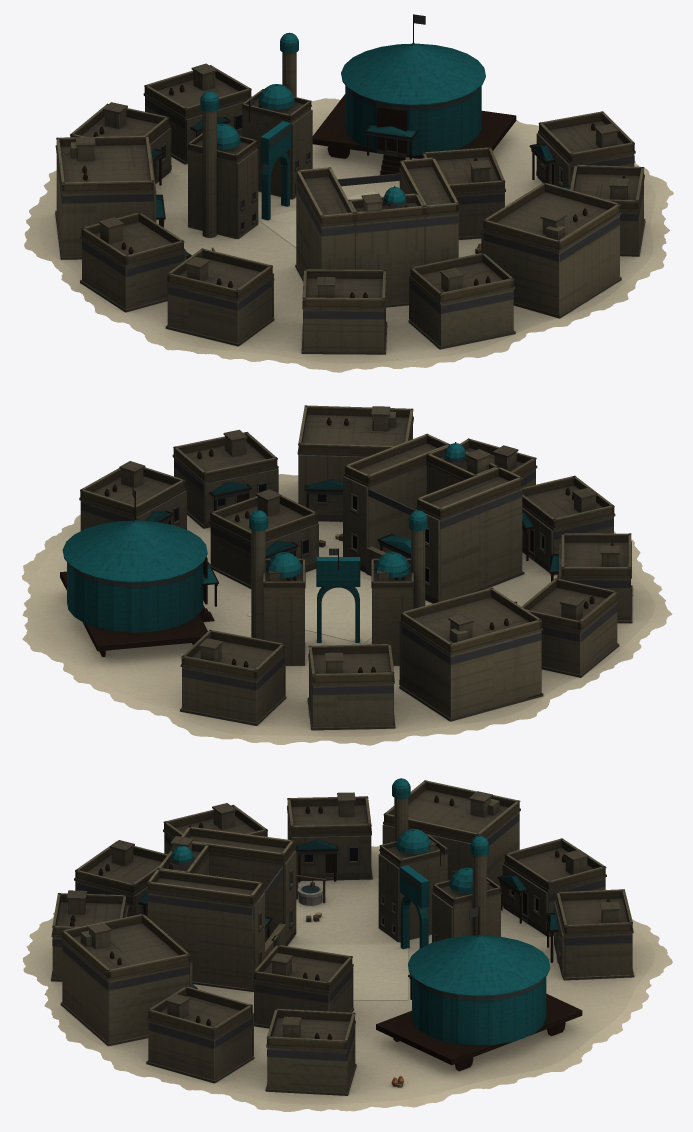
Rendered from kingdoms-town-medium-a-steppe-02905733.glb.
3 views of the same model, one above another, from view 1: azimuth 30°, elevation 25°; view 2: azimuth 150°, elevation 25°; view 3: azimuth 270°, elevation 25° (orthographic).
Parts seen in each view (by area): view 1: LOD0; view 2: LOD0; view 3: LOD0.
Boxes of the visible parts, bbox=[...] form: LOD0: bbox=[24, 14, 673, 372]; LOD0: bbox=[21, 405, 672, 745]; LOD0: bbox=[23, 778, 672, 1111].
Size of what is drawn, in the model's own units: 5.95 by 1.45 by 6.05.
3 materials, 3 textured.
